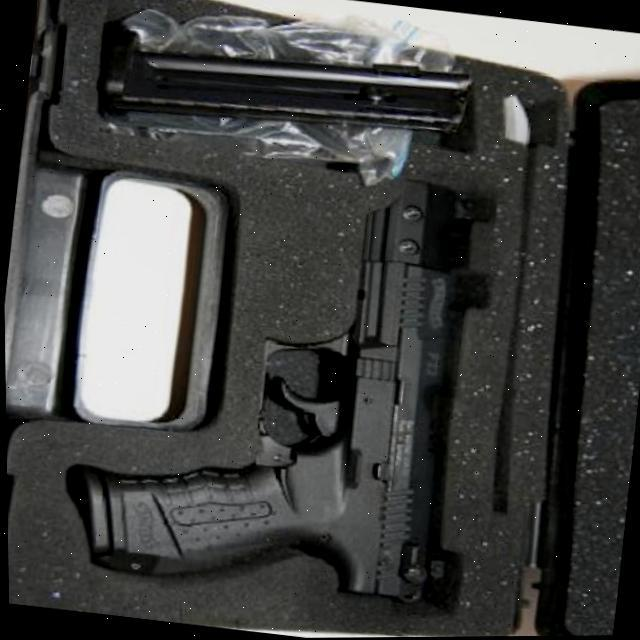gun: (47, 140, 495, 612)
